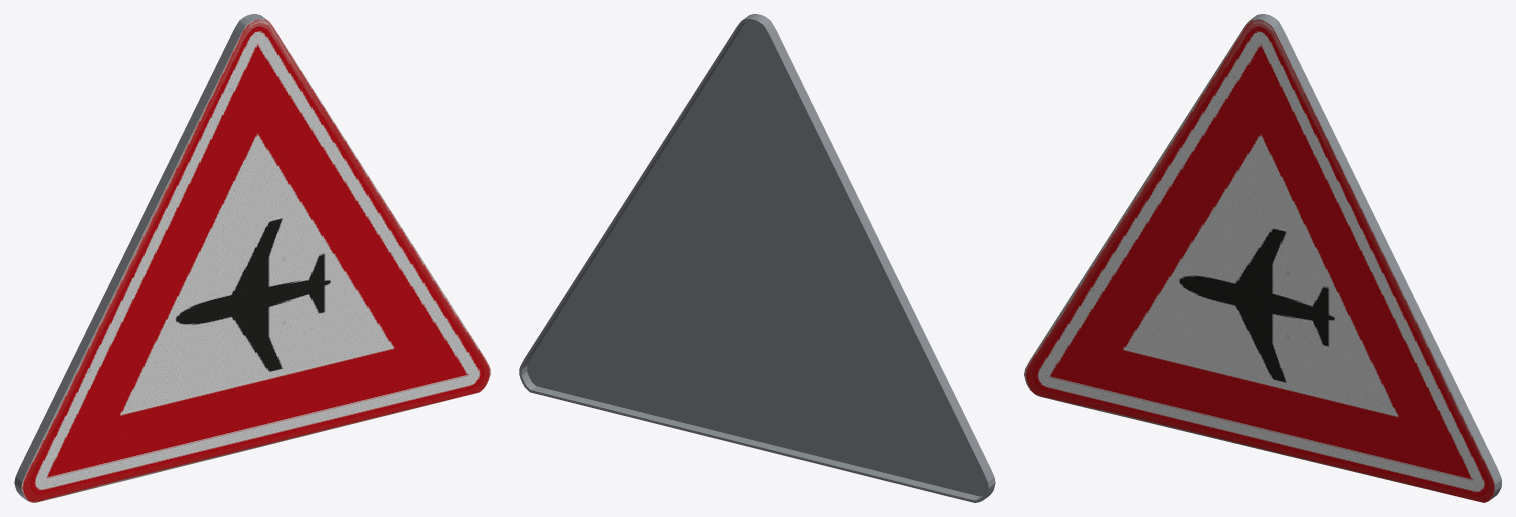
3 renders of one model, left to right at view 1: azimuth 30°, elevation 25°; view 2: azimuth 150°, elevation 25°; view 3: azimuth 330°, elevation 25°, orthographic.
Visible parts, largest first — view 1: cat_0e783b5068fffb40; view 2: cat_0e783b5068fffb40; view 3: cat_0e783b5068fffb40.
Boxes of the visible parts, bbox=[...] form: cat_0e783b5068fffb40: bbox=[14, 14, 490, 502]; cat_0e783b5068fffb40: bbox=[519, 14, 995, 502]; cat_0e783b5068fffb40: bbox=[1024, 14, 1501, 502].
Bounding box in the file's own units: 0.6 × 0.015 × 0.5245.
Materials: 2 (1 with a texture image).
